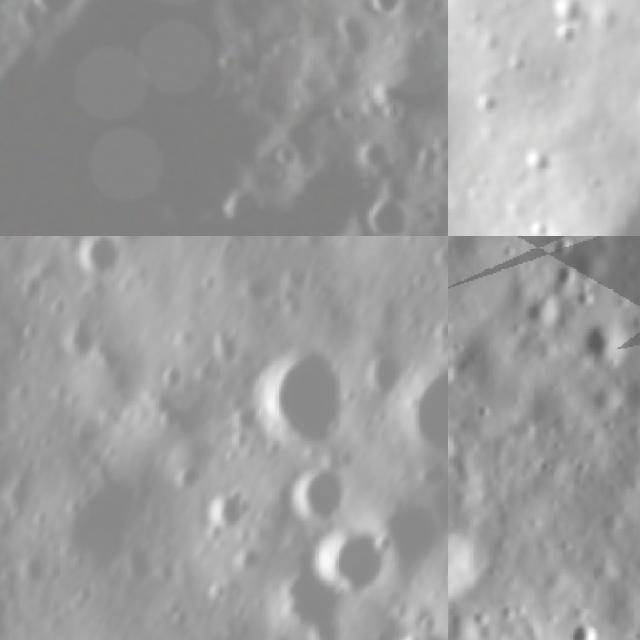crater: (234, 325, 373, 464), (40, 454, 165, 590), (302, 513, 397, 605), (448, 506, 509, 637), (361, 478, 448, 569), (270, 445, 357, 531), (392, 341, 448, 468), (318, 0, 394, 70), (570, 310, 639, 378), (348, 179, 428, 236), (192, 476, 256, 540), (343, 123, 407, 185), (356, 337, 414, 404), (50, 308, 111, 370), (582, 181, 640, 236), (69, 236, 134, 285), (198, 319, 255, 373), (4, 0, 96, 33), (158, 449, 207, 504), (231, 260, 279, 312), (262, 129, 310, 177), (150, 357, 193, 398), (546, 18, 593, 53), (358, 0, 418, 27), (518, 141, 558, 181), (541, 0, 592, 27), (0, 582, 23, 640), (557, 614, 608, 640), (472, 88, 507, 121), (421, 236, 448, 276), (528, 210, 557, 236), (448, 356, 461, 395), (629, 83, 640, 129)
